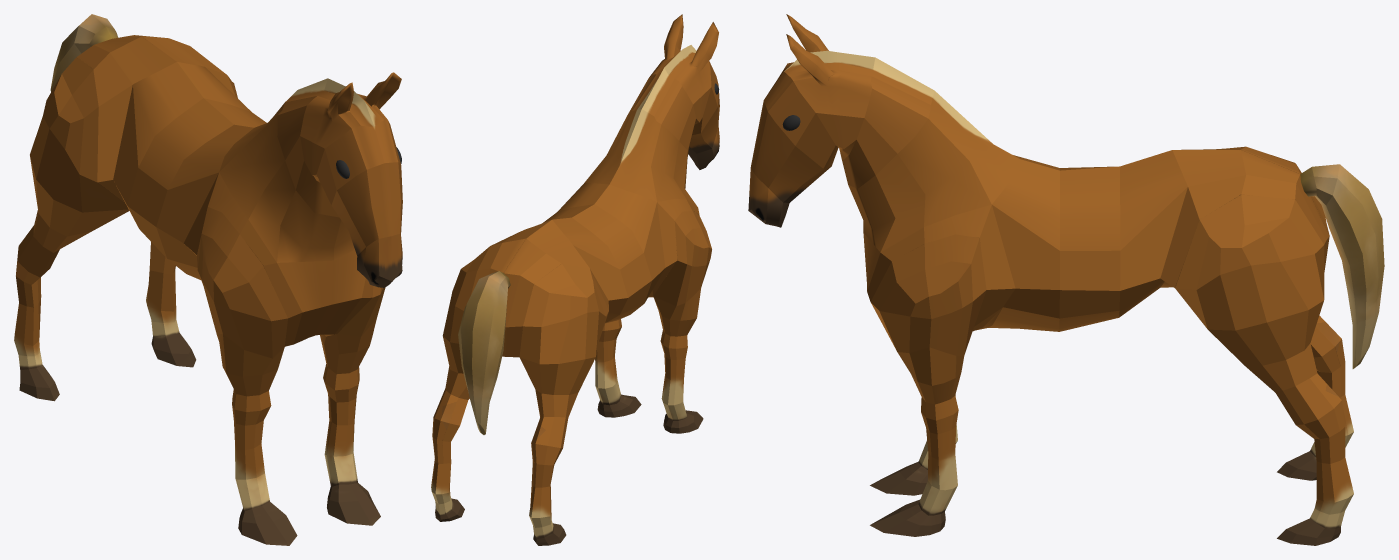
File: horse1.fbx
The picture shows the model from 3 angles, left to right: view 1: azimuth 30°, elevation 25°; view 2: azimuth 150°, elevation 25°; view 3: azimuth 270°, elevation 25°; orthographic projection. The views are drawn at different scales.
Visible parts, largest first — view 1: polySurface4, polySurface5; view 2: polySurface4, polySurface5; view 3: polySurface4, polySurface5.
Boxes of the visible parts, x1,y1,x2,y2 form: polySurface4: (14, 35, 402, 545); polySurface5: (50, 14, 117, 91); polySurface4: (431, 14, 719, 545); polySurface5: (458, 271, 510, 434); polySurface4: (748, 14, 1353, 545); polySurface5: (1300, 164, 1384, 368).
Bounding box in the file's own units: 3.33 × 8.41 × 10.07.
2 materials, 1 textured.
